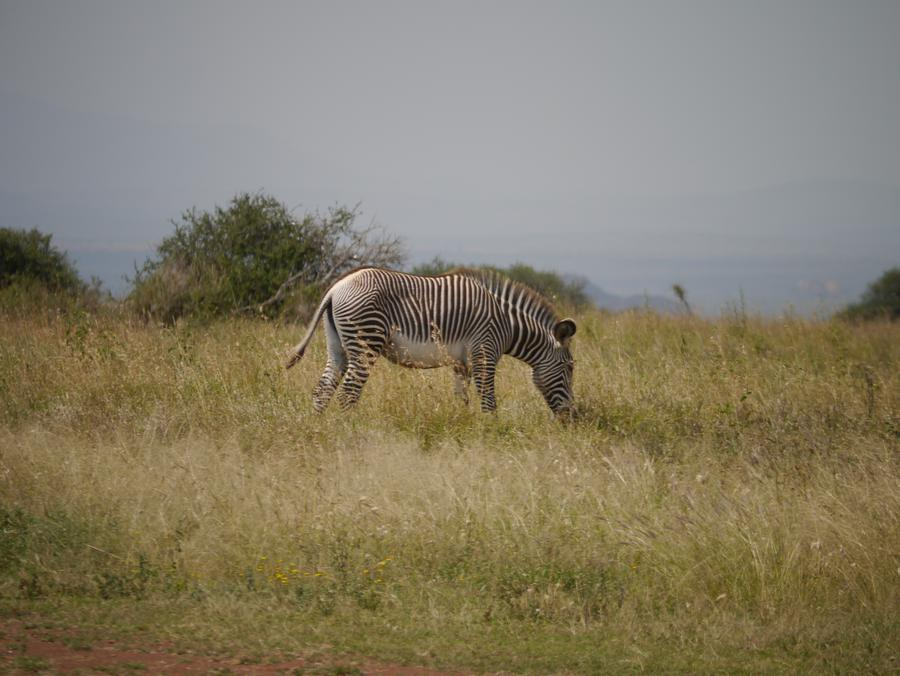zebra_grevys: (324, 265, 500, 359)
